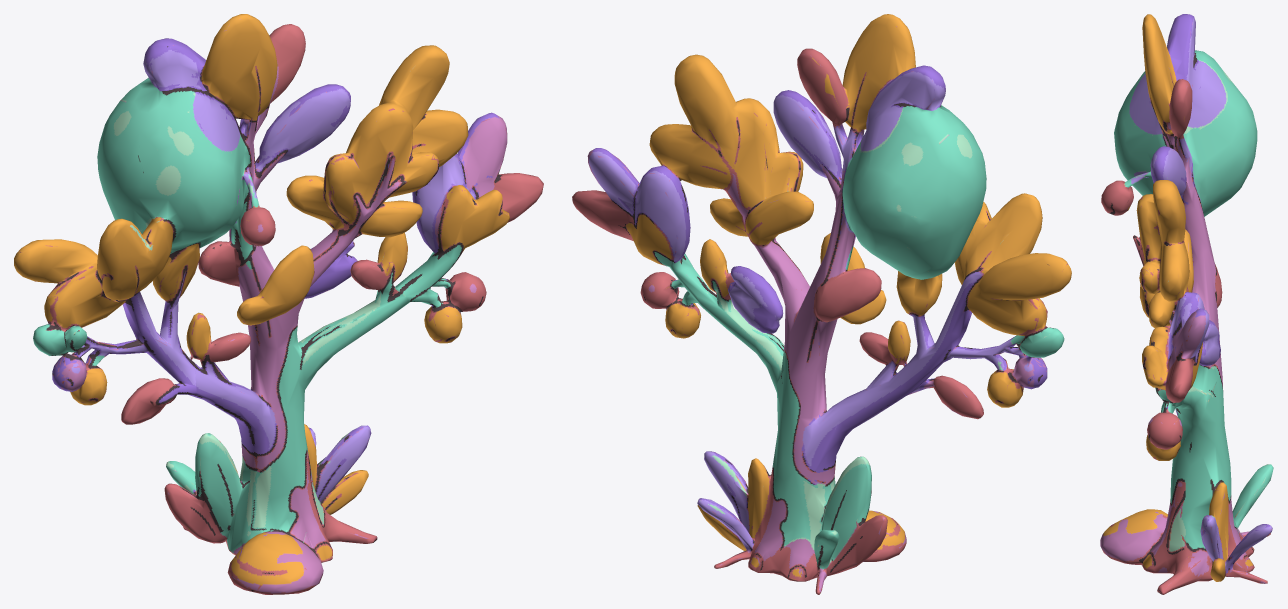
The model's file is tree_fall2.glb.
3 renders of one model, left to right at view 1: azimuth 30°, elevation 25°; view 2: azimuth 150°, elevation 25°; view 3: azimuth 270°, elevation 25°, orthographic. The views are drawn at different scales.
Visible parts, largest first — view 1: Mesh_0; view 2: Mesh_0; view 3: Mesh_0.
Part boxes in pixels (x1,y1,x2,y2): Mesh_0: [14, 14, 543, 594]; Mesh_0: [572, 14, 1071, 594]; Mesh_0: [1100, 14, 1273, 594].
Size of the model in its own units: 1.84 by 1.9 by 0.5757.
1 material, 1 textured.
